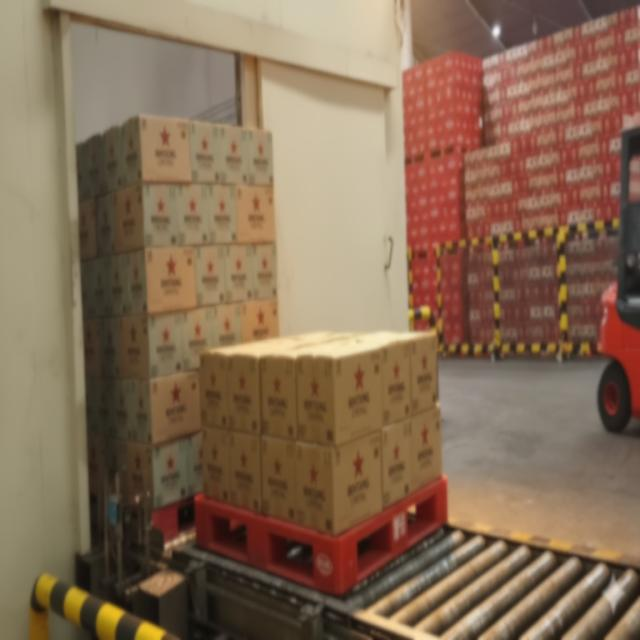pallet: (73, 104, 289, 545), (193, 318, 454, 608)
